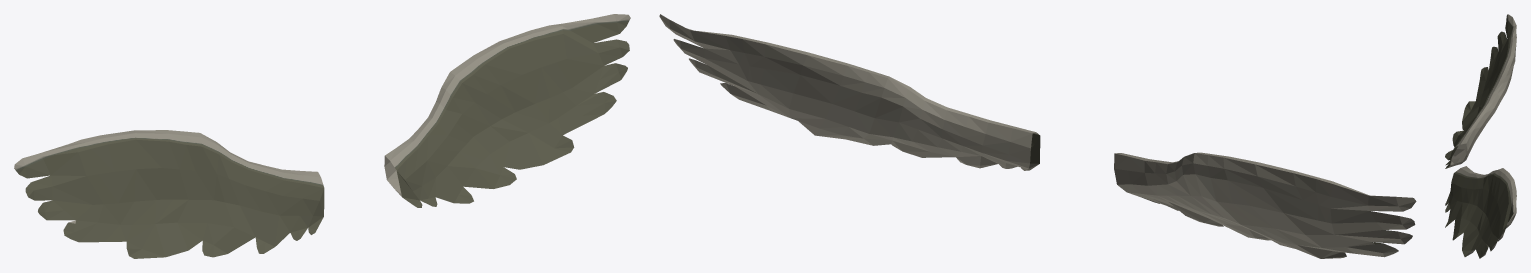
Rendered from BR_Staraptor.obj.
3 renders of one model, left to right at view 1: azimuth 30°, elevation 25°; view 2: azimuth 150°, elevation 25°; view 3: azimuth 270°, elevation 25°, orthographic. The views are drawn at different scales.
Parts seen in each view (by area): view 1: mukuhawk; view 2: mukuhawk; view 3: mukuhawk.
Part boxes in pixels (<box>): mukuhawk: <box>14,14,630,258</box>; mukuhawk: <box>659,14,1416,258</box>; mukuhawk: <box>1445,14,1516,258</box>.
Size of the model in its own units: 35.91 by 6.03 by 5.2.
1 material, 1 textured.
